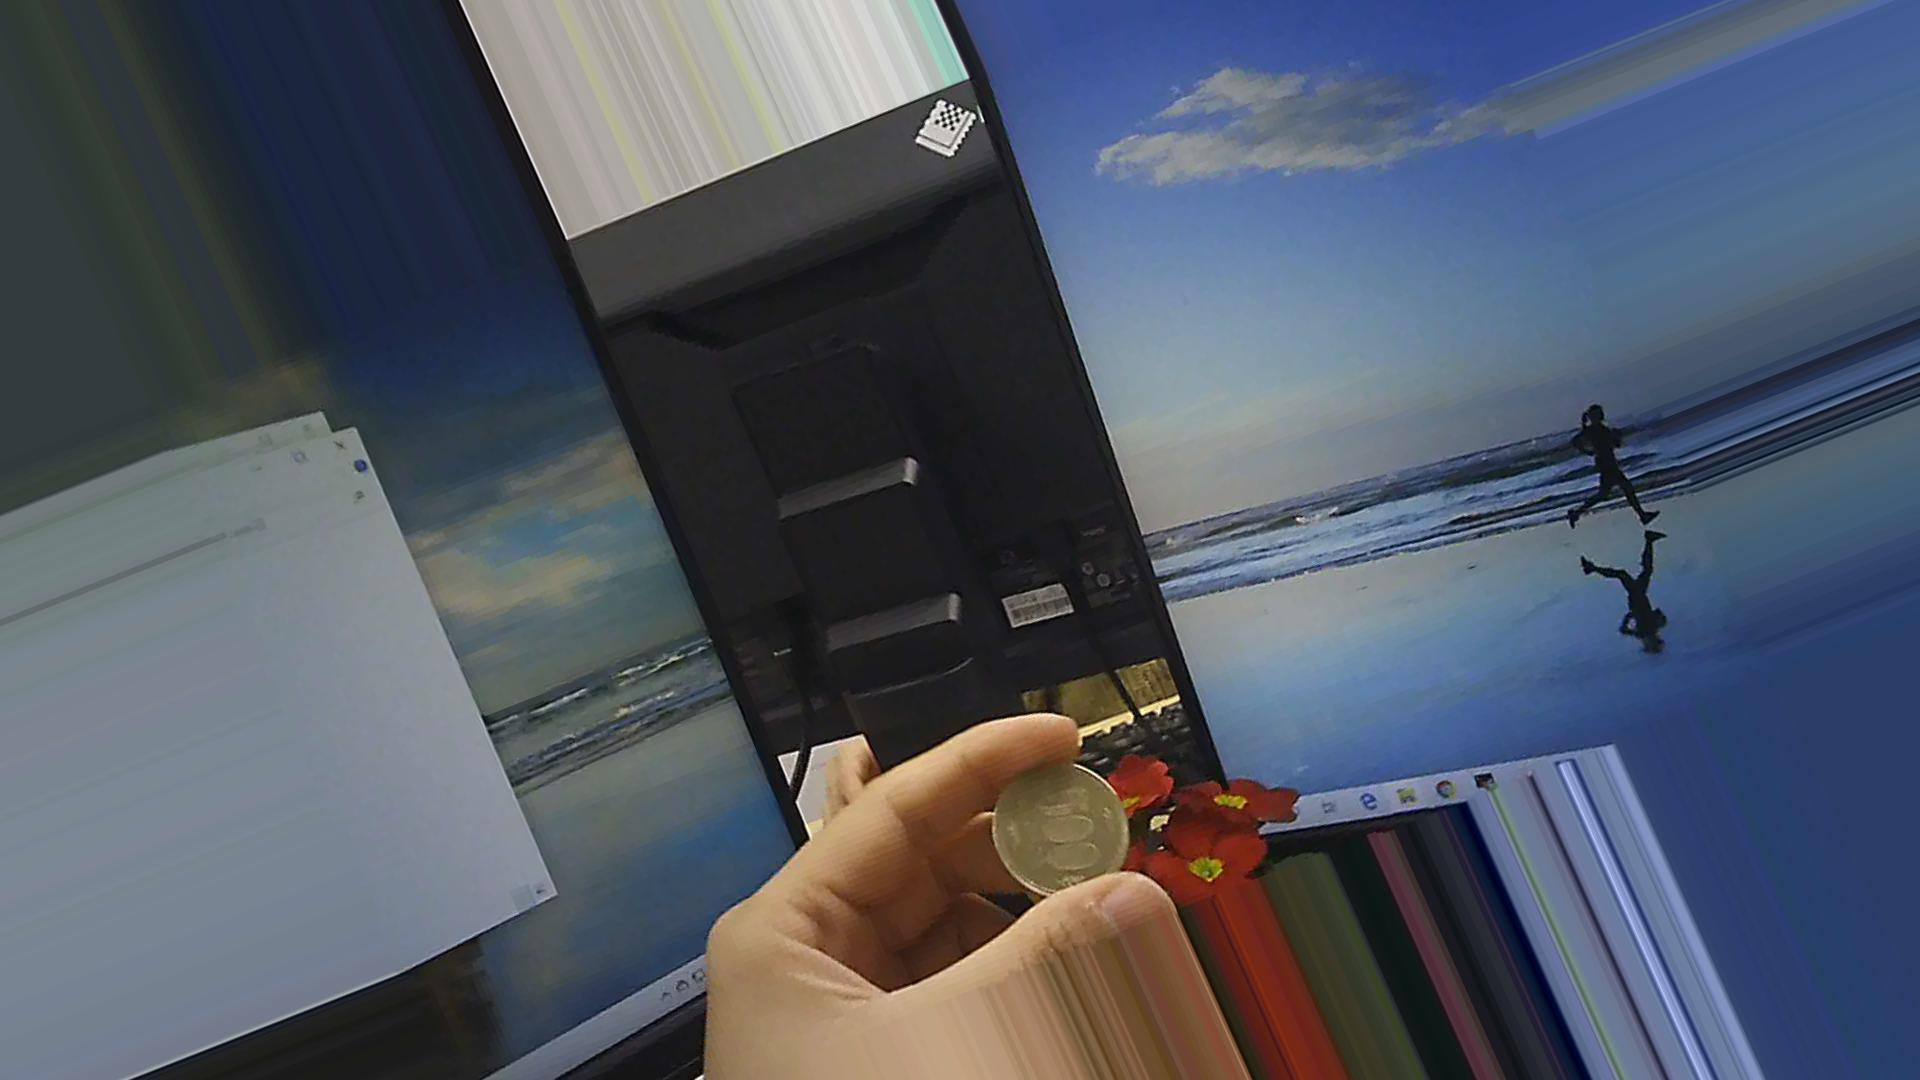500 Yen: (982, 752, 1131, 895)
